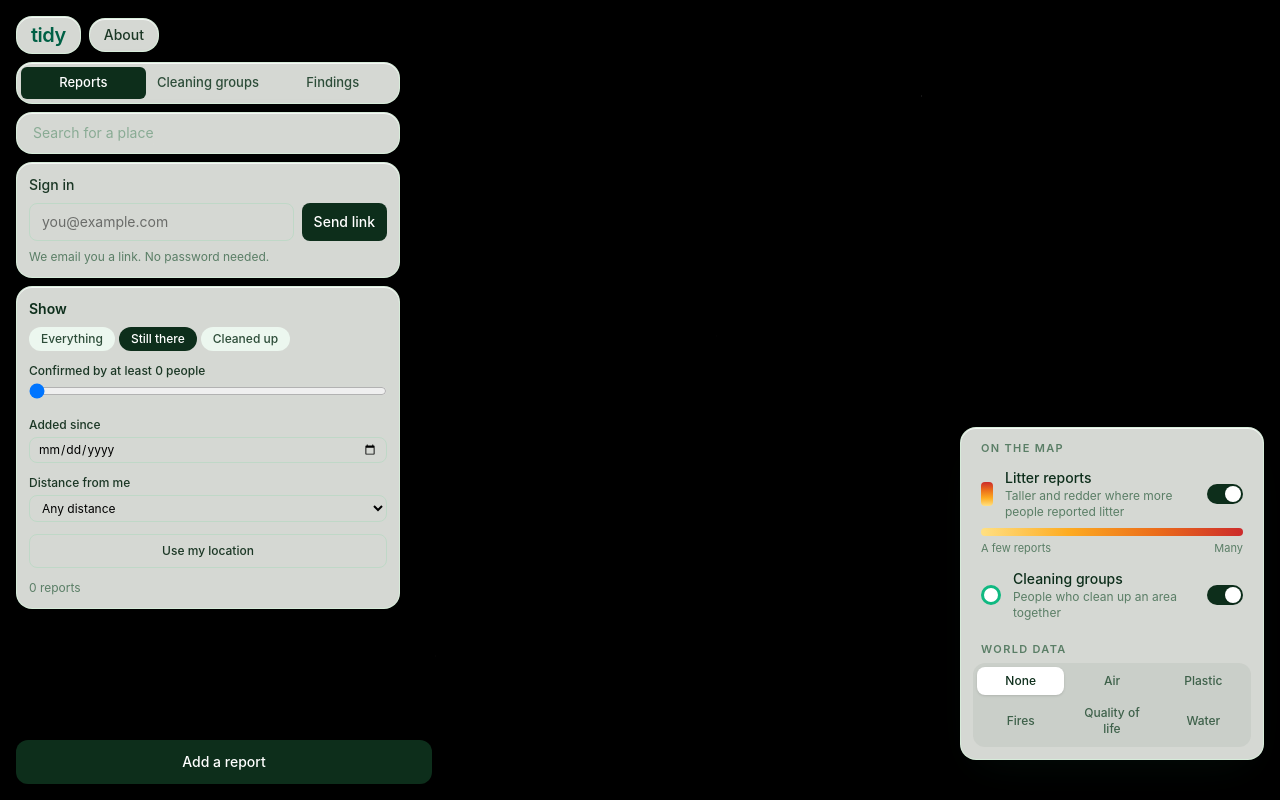
Test case: the Findings tab › opens the findings, worked out from the real figures, and says they are saved copies
Click the tab "Findings".
click(333, 83)  # box [270,67,395,98]
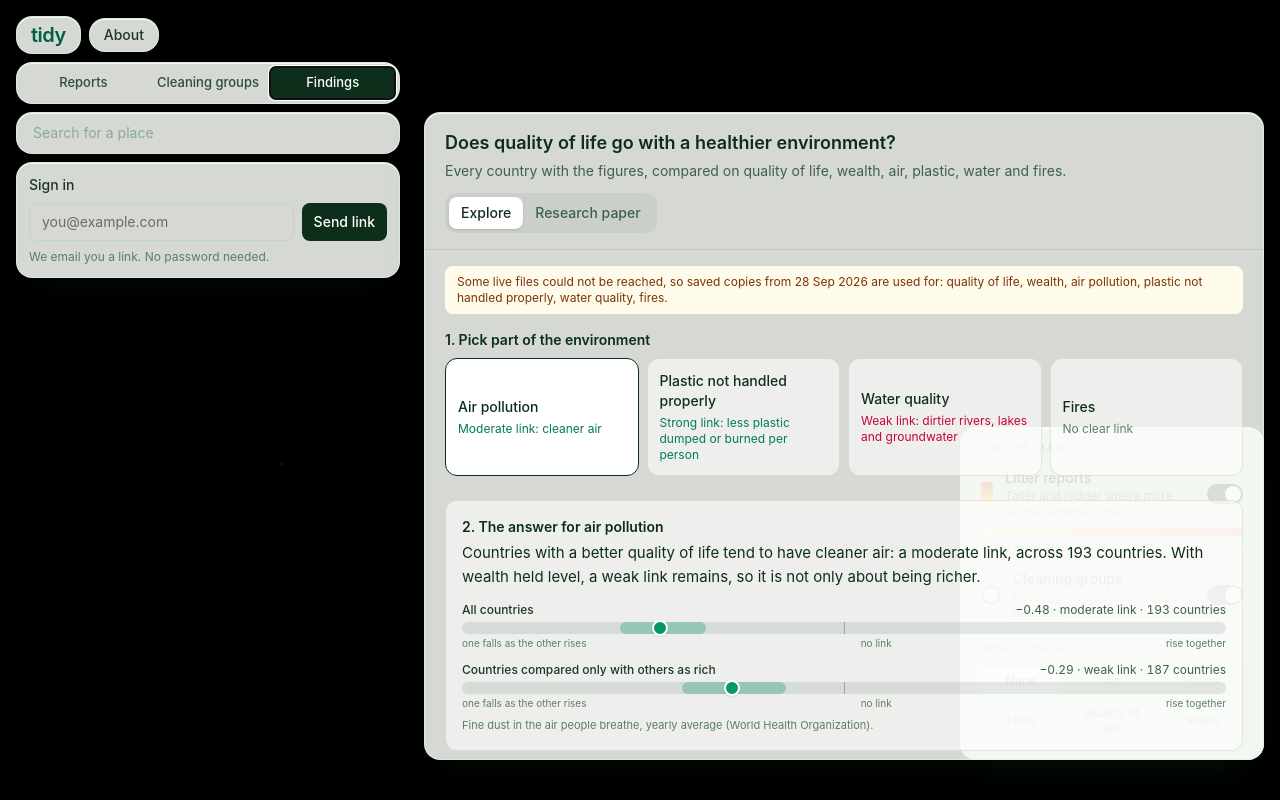
Now the text "saved copies from" is shown, box [457,274,795,289]
